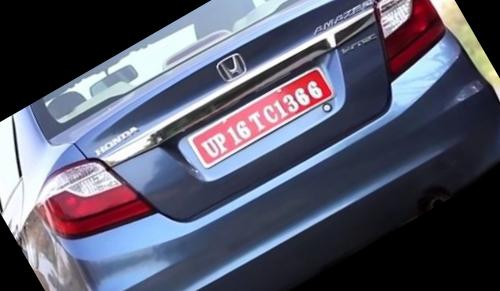plate: (171, 47, 352, 185)
